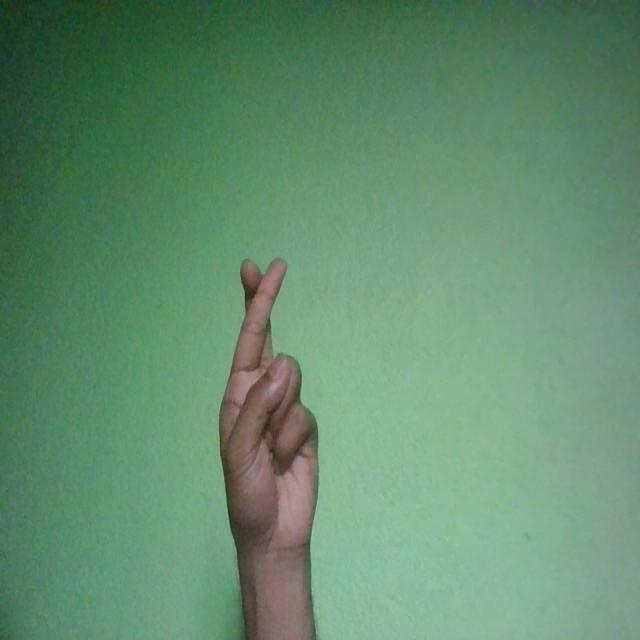Ok: (218, 258, 320, 562)
